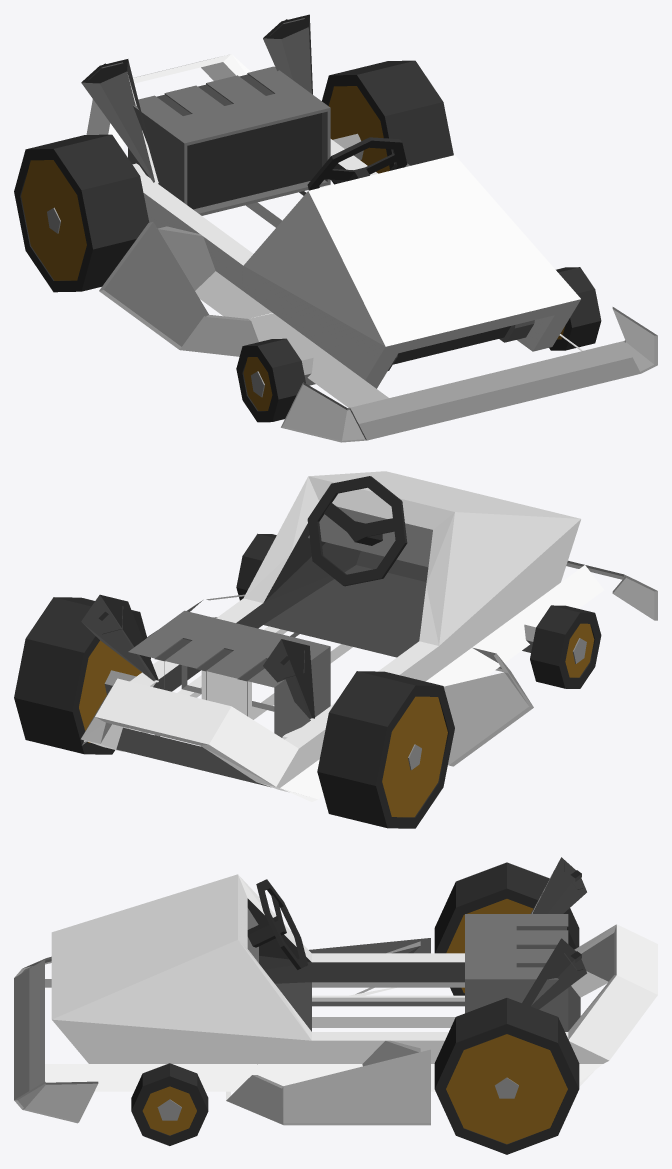
File: kart-retro-v1.glb
The picture shows the model from 3 angles, top to bottom: view 1: azimuth 30°, elevation 25°; view 2: azimuth 150°, elevation 25°; view 3: azimuth 270°, elevation 25°; orthographic projection. The views are drawn at different scales.
Parts seen in each view (by area): view 1: Chassis, Wheel_RR, Wheel_RL, Wheel_FR, Wheel_FL; view 2: Chassis, Wheel_RR, Wheel_RL, Wheel_FR, Wheel_FL; view 3: Chassis, Wheel_RL, Wheel_RR, Wheel_FL.
Boxes of the visible parts, bbox=[...] form: Chassis: bbox=[81, 14, 657, 442]; Wheel_RR: bbox=[14, 134, 149, 292]; Wheel_RL: bbox=[322, 60, 453, 184]; Wheel_FR: bbox=[236, 338, 305, 422]; Wheel_FL: bbox=[549, 267, 601, 350]; Chassis: bbox=[81, 471, 657, 801]; Wheel_RR: bbox=[317, 671, 454, 828]; Wheel_RL: bbox=[14, 597, 150, 754]; Wheel_FR: bbox=[530, 605, 601, 688]; Wheel_FL: bbox=[236, 533, 276, 600]; Chassis: bbox=[14, 857, 657, 1125]; Wheel_RL: bbox=[434, 998, 579, 1154]; Wheel_RR: bbox=[434, 862, 579, 995]; Wheel_FL: bbox=[131, 1063, 208, 1145].
Bounding box in the file's own units: 2.35 × 1.25 × 3.8.
